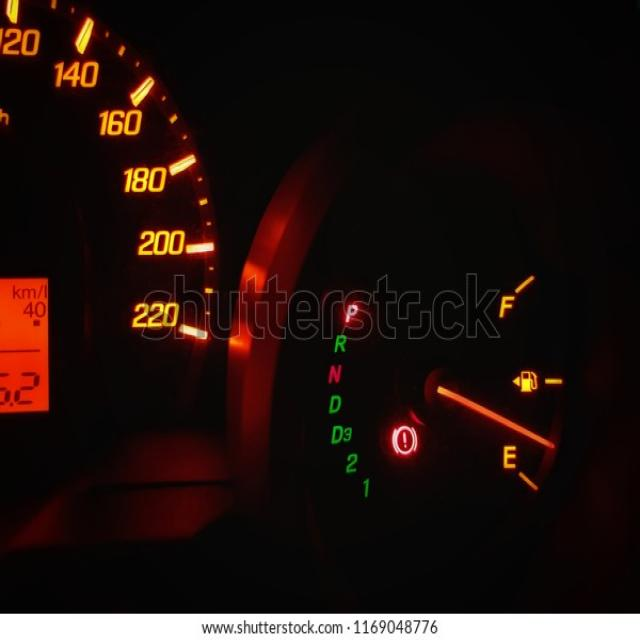Braking System Issue: (388, 421, 419, 458)
